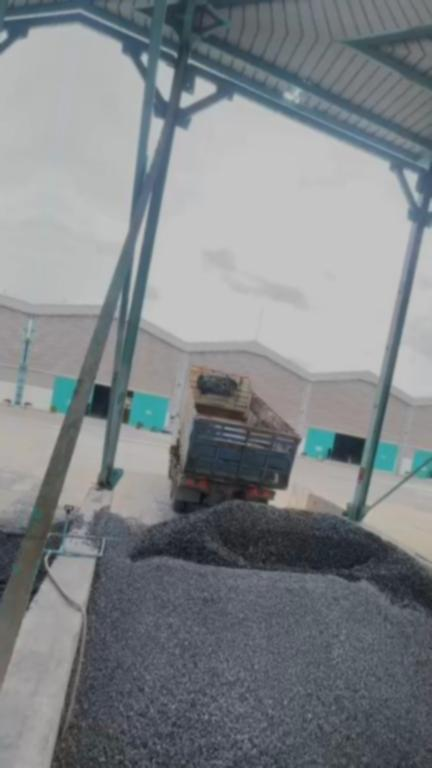gravel: (40, 501, 432, 768), (0, 505, 31, 579), (45, 512, 63, 565)
